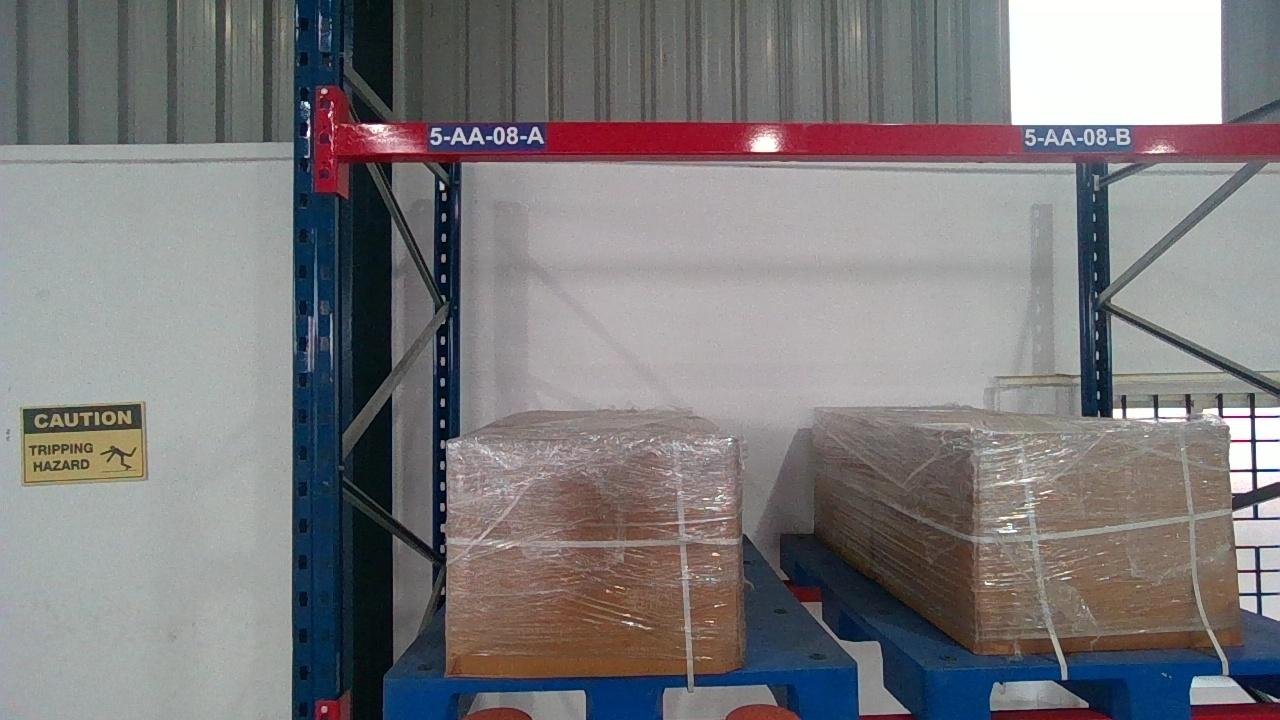h_rack: (334, 121, 1274, 157), (888, 708, 1273, 719)
small_pallet: (381, 669, 855, 718), (928, 661, 1278, 717)
